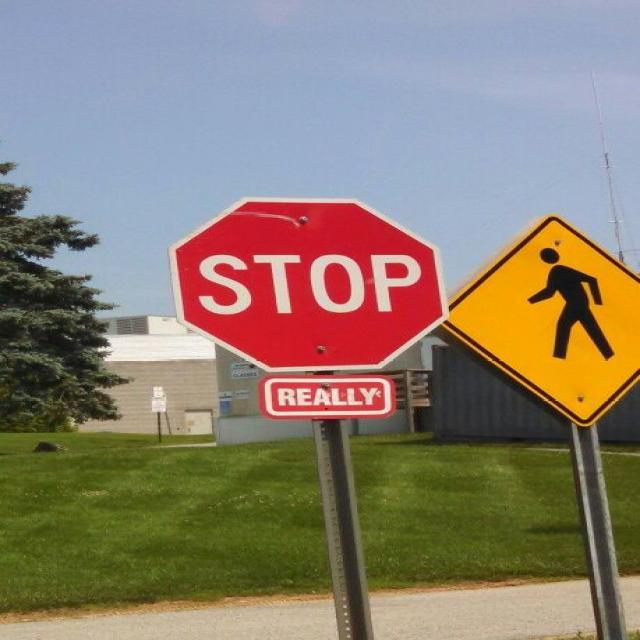stop: (167, 196, 449, 373)
